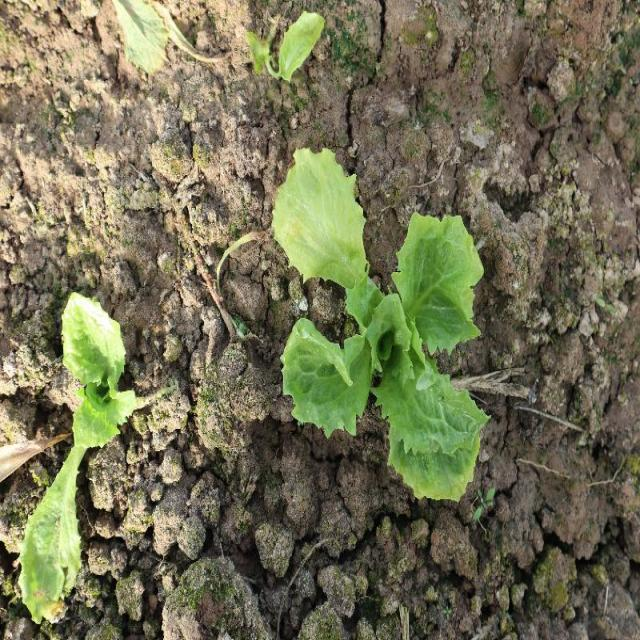crop: (273, 144, 492, 504), (12, 277, 139, 624)
